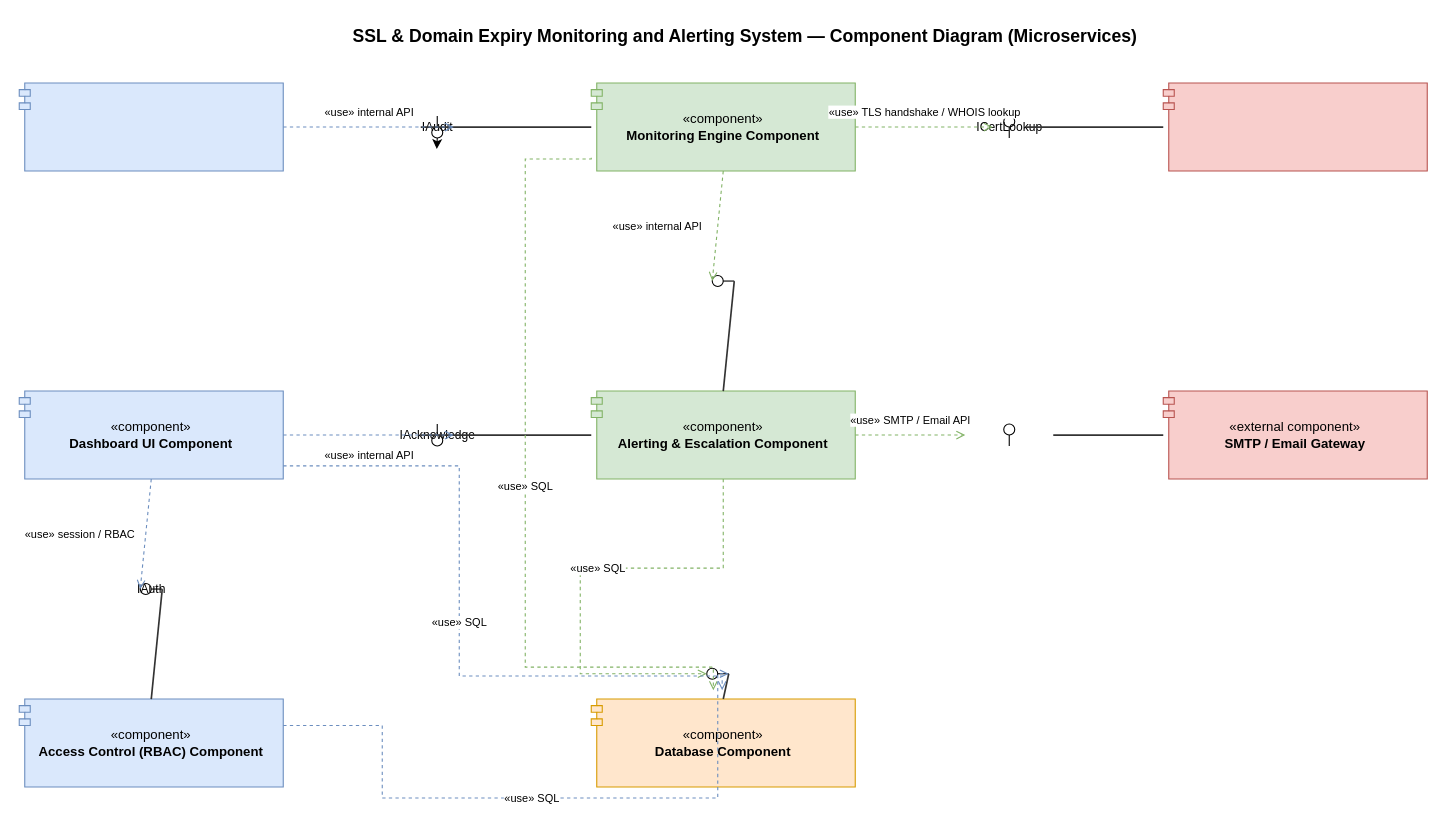
This 1447x826 diagram has some shape labels left out. Each missing label, with the box of its shape:
IAlertDispatch: (711, 263, 734, 298)
IDataAccess: (706, 656, 729, 690)
IEmailSend: (992, 423, 1026, 446)
«component» Scheduler Component: (18, 82, 283, 171)
«external component» WHOIS & Certificate Provider: (1162, 82, 1427, 171)
